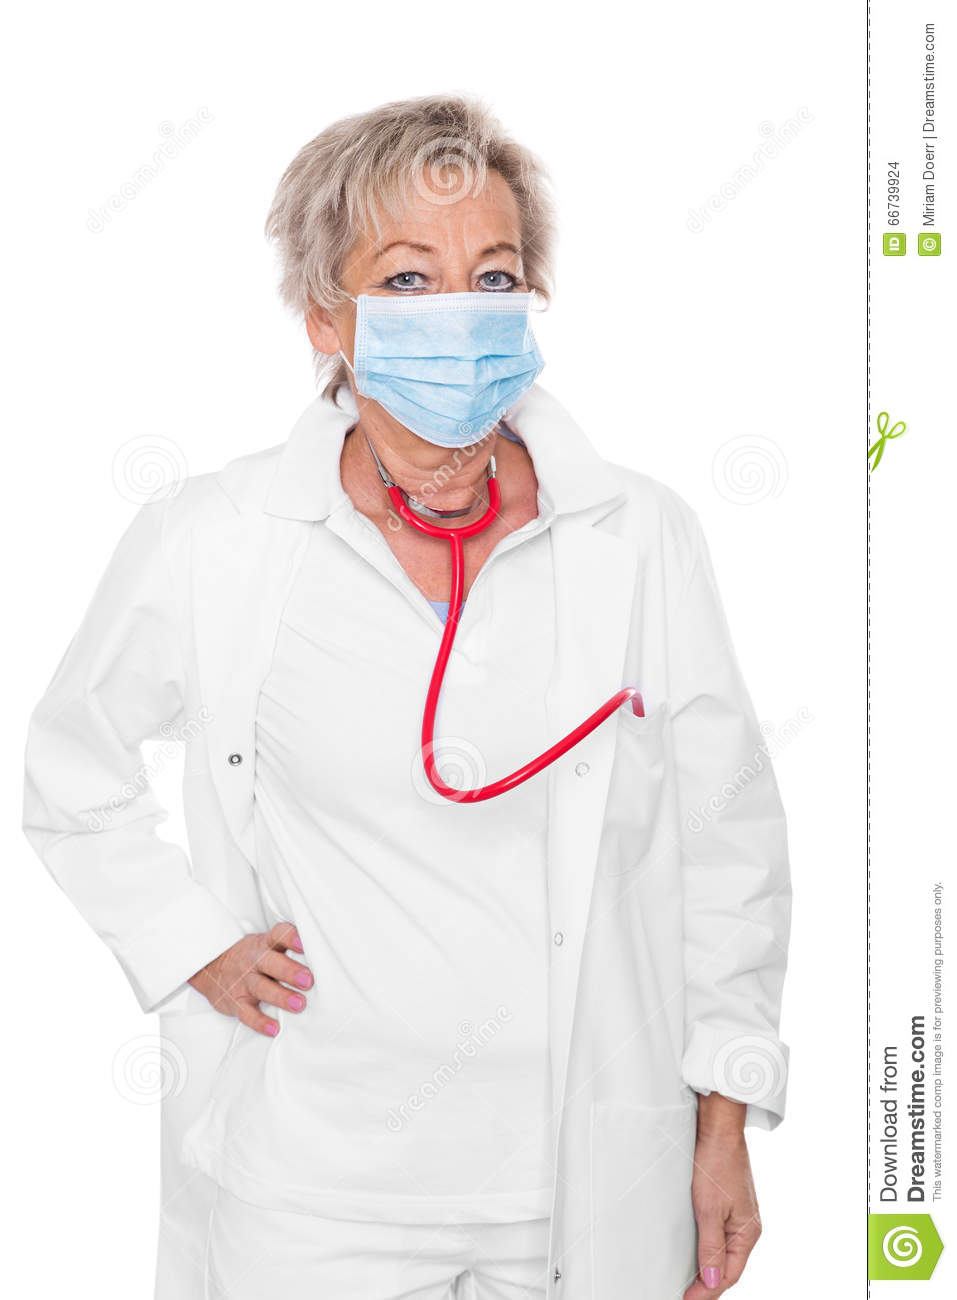mask: (349, 284, 538, 447)
